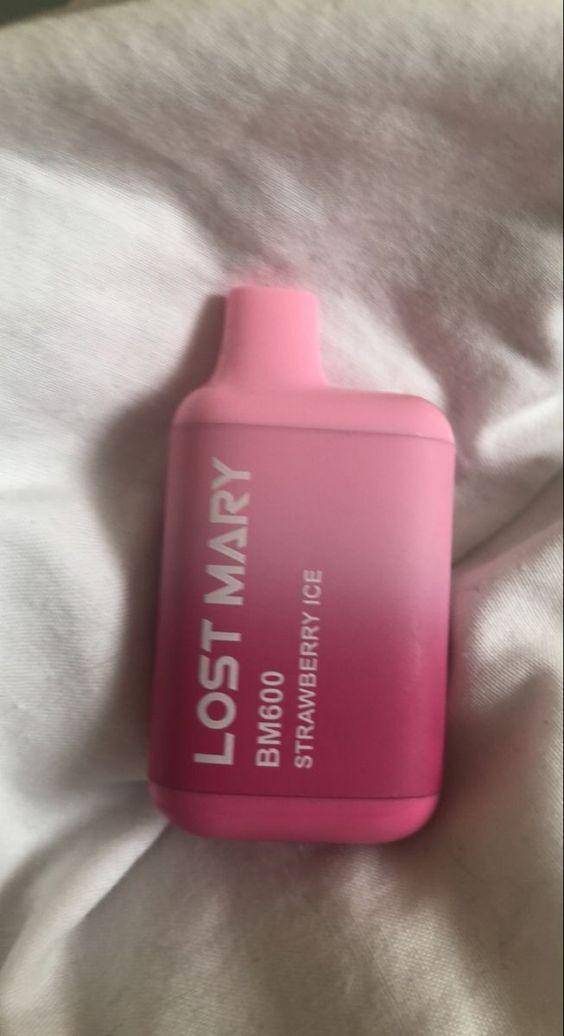Vape: (149, 287, 454, 843)
